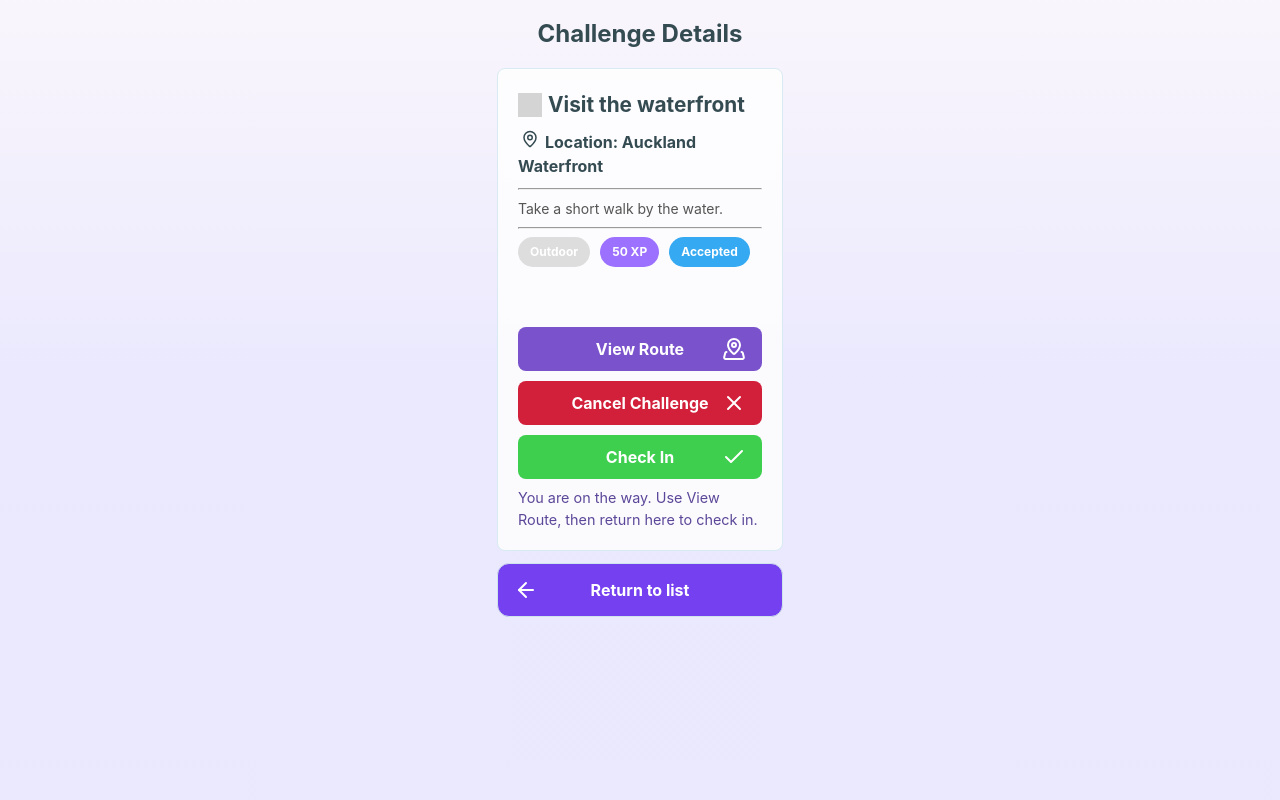
Test case: ChallengeDetailView › API/service request handling › shows an error message when the check-in request fails
Step 1. Click the button "Check In" → (640,457), box [518,435,762,479]
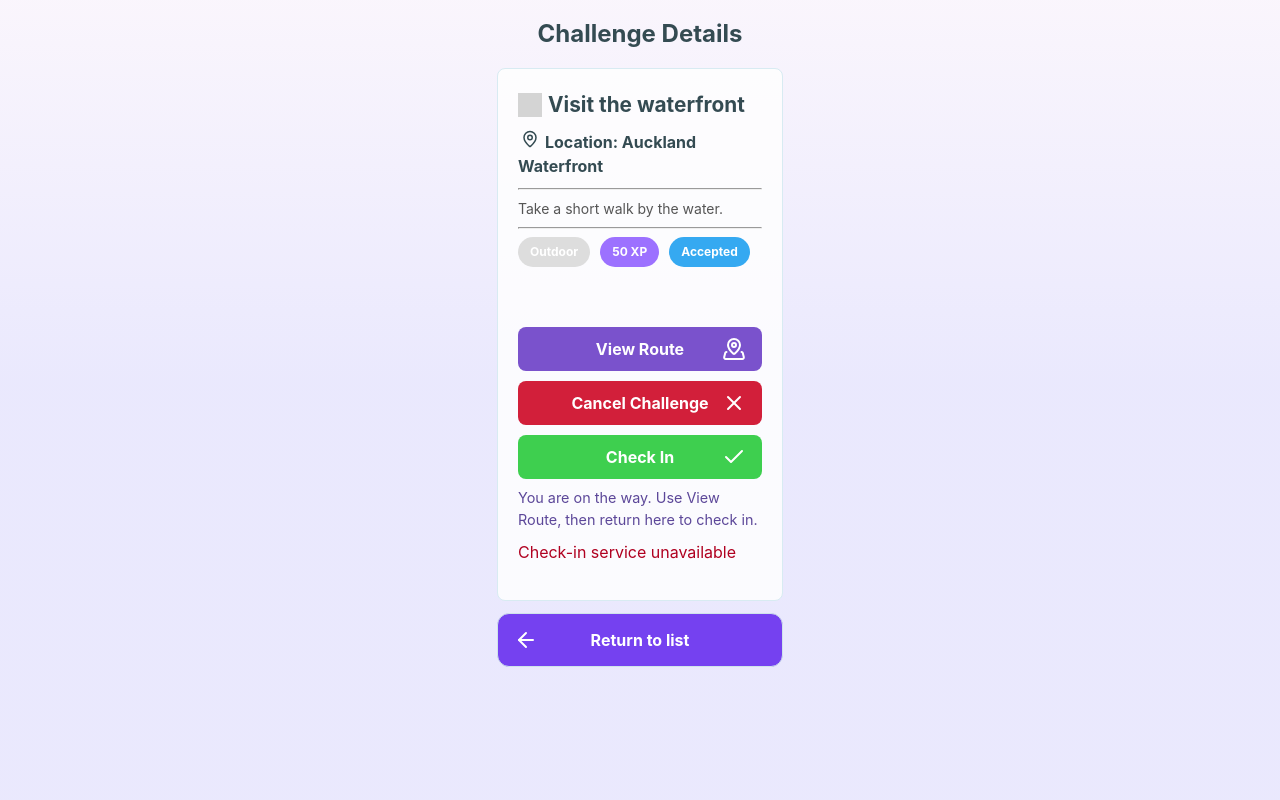
Expected: the text "Check-in service unavailable" is shown, [518,540,762,564]
